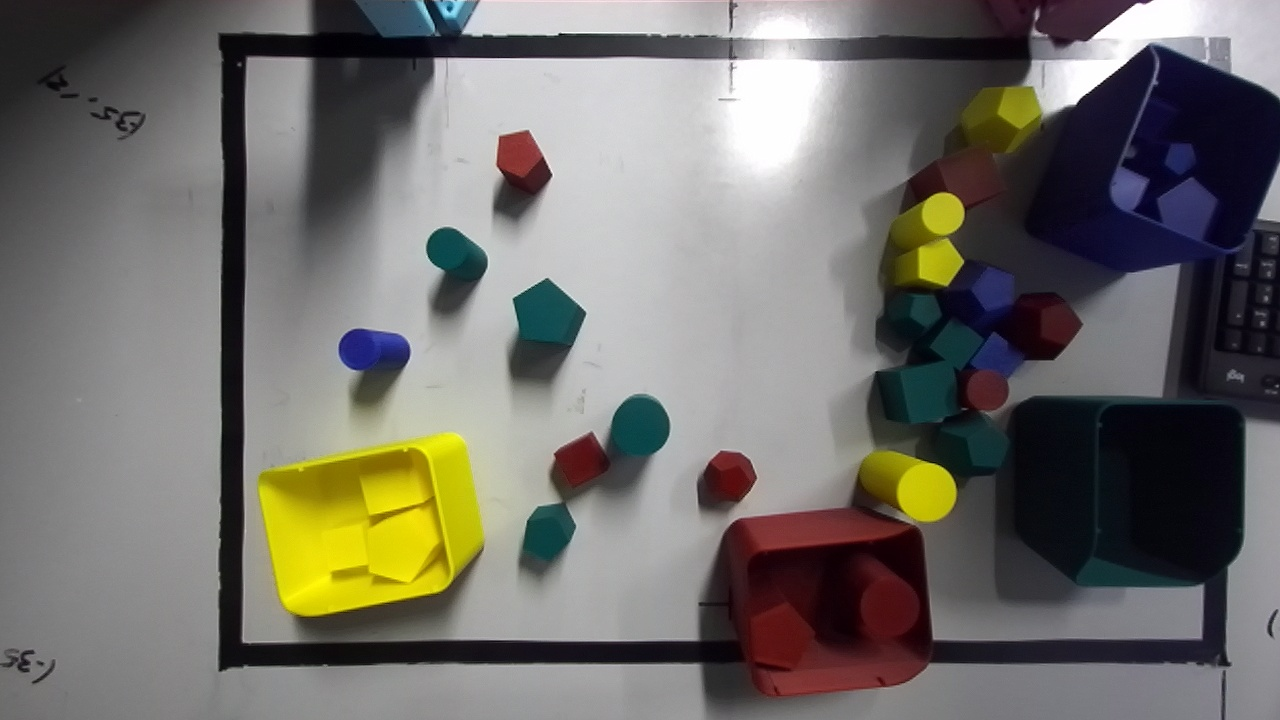bin: (1025, 45, 1279, 271), (1015, 397, 1243, 584), (258, 433, 483, 616), (722, 508, 931, 696)
cube: (909, 147, 1006, 210), (847, 554, 918, 636), (359, 451, 432, 524), (875, 360, 958, 423), (913, 317, 982, 369), (552, 432, 609, 488), (969, 333, 1024, 377), (320, 524, 367, 572), (1109, 166, 1149, 211)
cylinder: (857, 451, 956, 521), (889, 192, 964, 250), (610, 394, 669, 455), (426, 227, 487, 281), (338, 329, 410, 370), (959, 369, 1009, 410)
dodecahedron: (937, 260, 1014, 335), (998, 292, 1082, 359), (961, 87, 1041, 152), (934, 412, 1009, 476), (697, 450, 756, 501), (884, 289, 941, 339)
hexagonal: (367, 505, 441, 582), (513, 277, 585, 345), (749, 601, 813, 668), (1157, 177, 1218, 240), (496, 130, 551, 193), (894, 239, 962, 288), (522, 503, 575, 560), (1163, 142, 1196, 175)
